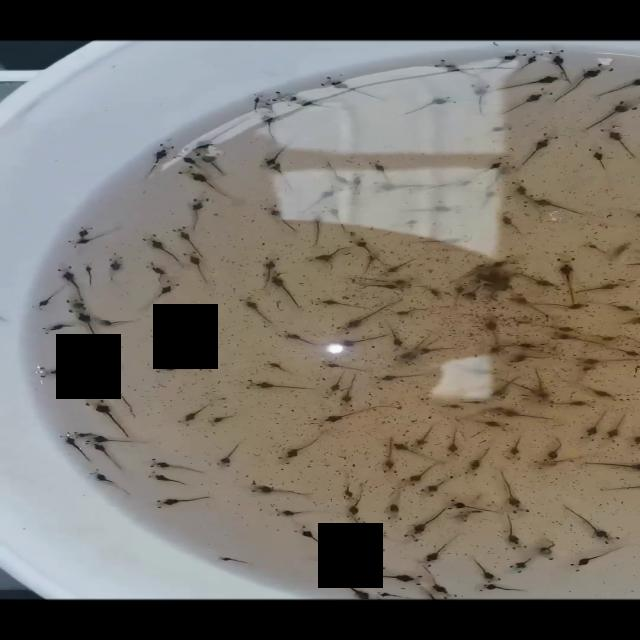shrimp2: (557, 503, 623, 546), (275, 430, 328, 470), (566, 544, 632, 574), (521, 129, 565, 171), (497, 468, 534, 517), (289, 522, 343, 554), (395, 94, 461, 120), (236, 294, 281, 326), (242, 479, 314, 498), (555, 253, 580, 303), (242, 378, 316, 394), (312, 294, 371, 312), (153, 494, 217, 510), (149, 456, 207, 473), (398, 204, 467, 218), (214, 441, 248, 469), (336, 332, 388, 350), (188, 193, 212, 231), (152, 362, 212, 376), (279, 329, 320, 348), (310, 207, 328, 249), (587, 144, 609, 176), (106, 252, 129, 282), (207, 413, 243, 429)
